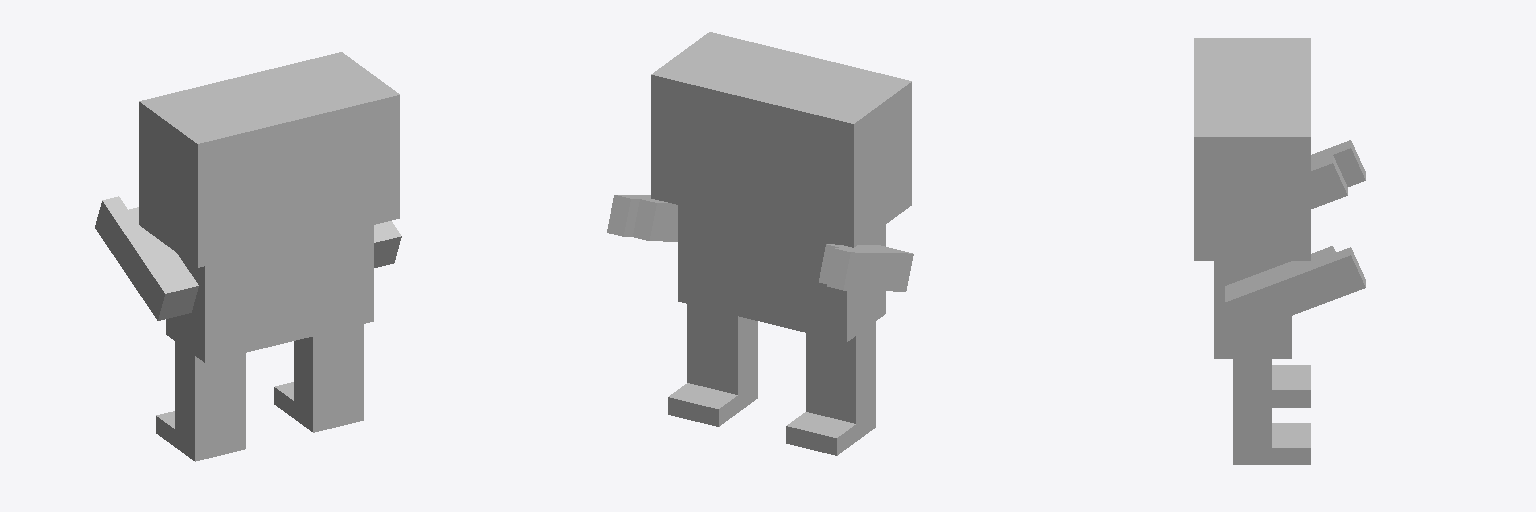
File: zombieattack1.obj
3 views of the same model, side by side, from view 1: azimuth 30°, elevation 25°; view 2: azimuth 150°, elevation 25°; view 3: azimuth 270°, elevation 25° (orthographic).
Visible parts, largest first — view 1: cube; view 2: cube; view 3: cube.
Boxes of the visible parts, box(x1,y1,x2,y2) form: cube: box(95, 52, 401, 461); cube: box(607, 32, 913, 455); cube: box(1194, 38, 1365, 464).
Bounding box in the file's own units: 14 × 19 × 8.81.